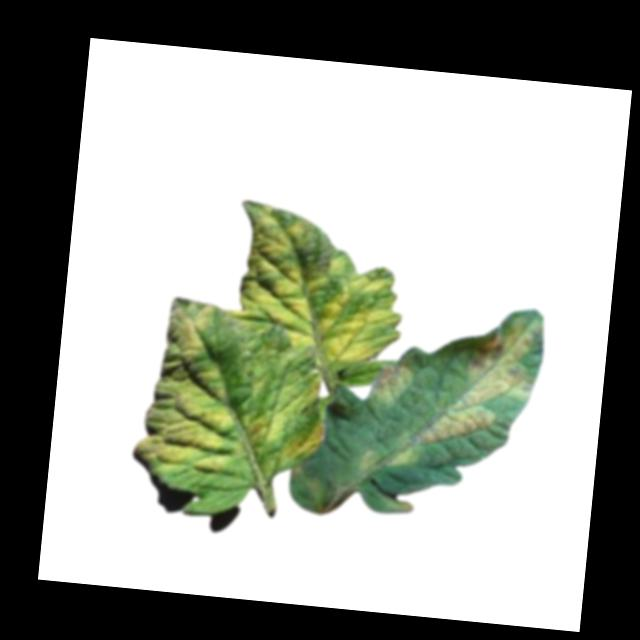Leaf_Mold: (230, 202, 414, 371), (130, 297, 247, 477), (411, 306, 544, 457), (243, 366, 330, 472), (356, 439, 419, 484), (365, 358, 410, 411)
